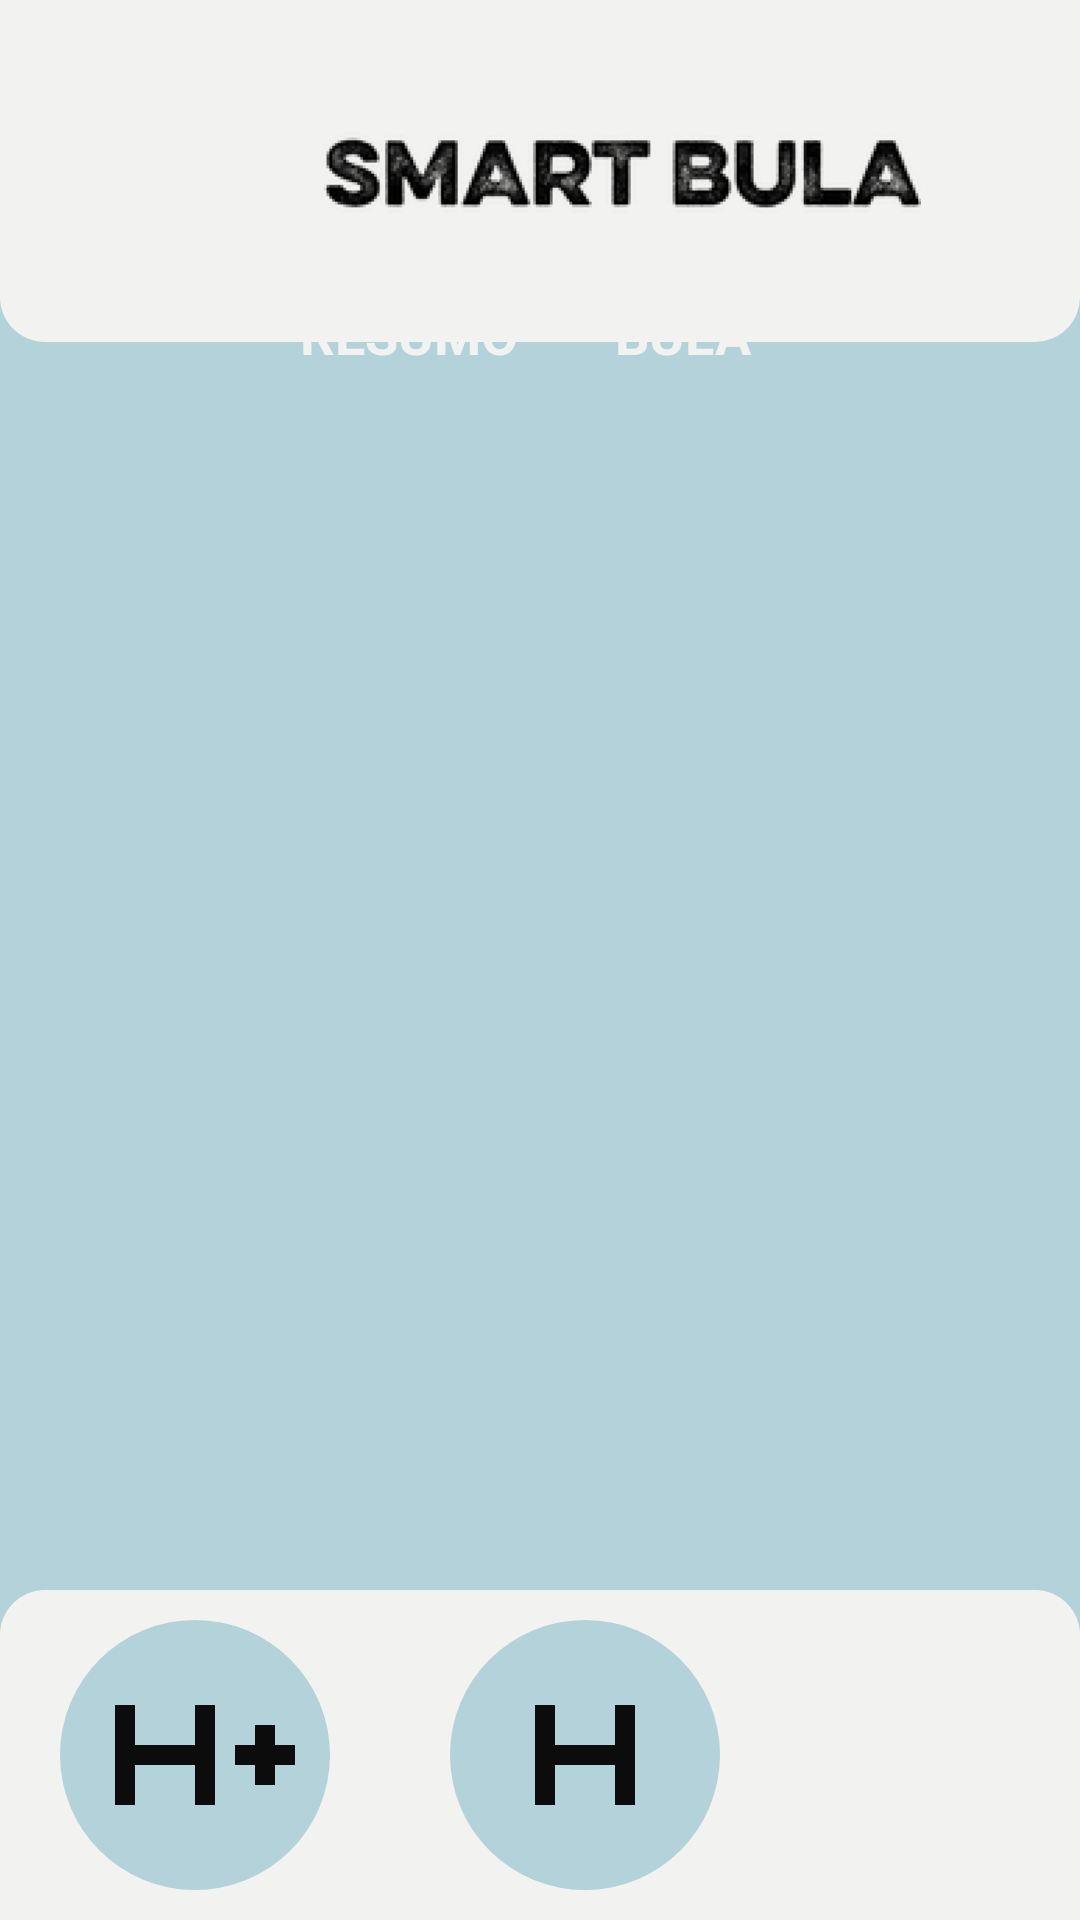

Screen size 1080*1920. Icon name, then its center in pixels as [x,y]:
aumentar fon: [195,1755]
